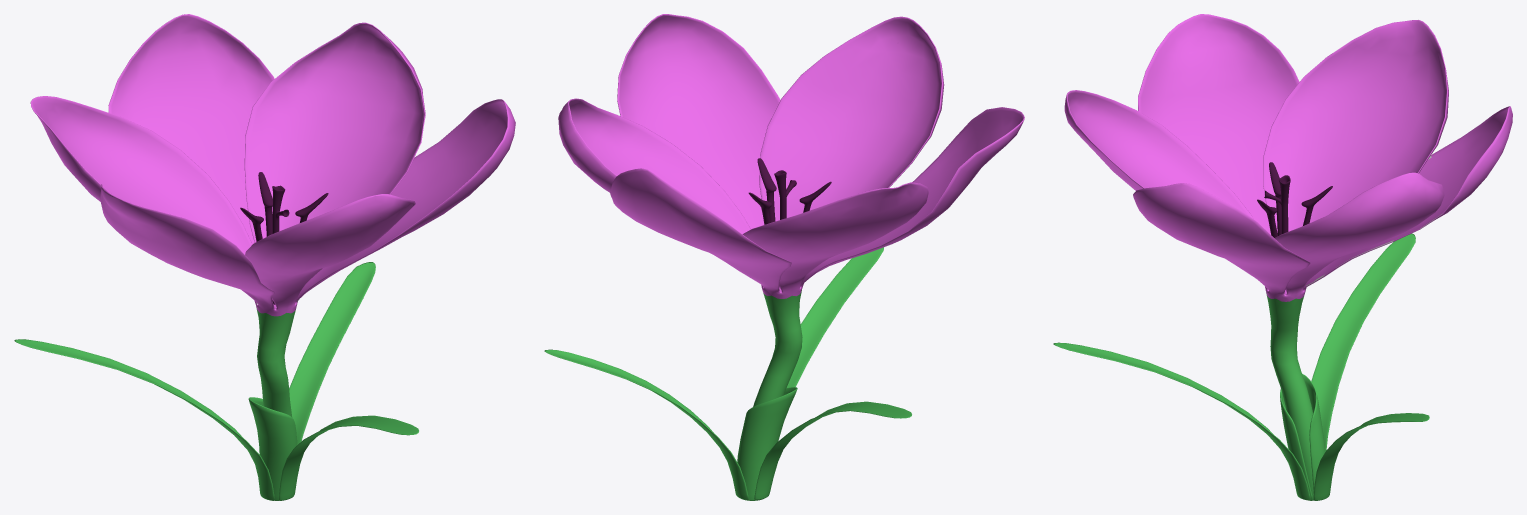
File: Flor.fbx
3 renders of one model, left to right at view 1: azimuth 30°, elevation 25°; view 2: azimuth 150°, elevation 25°; view 3: azimuth 270°, elevation 25°, orthographic. The views are drawn at different scales.
Visible parts, largest first — view 1: 12974_crocus_flower_v1_l3; view 2: 12974_crocus_flower_v1_l3; view 3: 12974_crocus_flower_v1_l3.
Boxes of the visible parts, x1,y1,x2,y2 form: 12974_crocus_flower_v1_l3: [14, 14, 515, 500]; 12974_crocus_flower_v1_l3: [544, 14, 1024, 500]; 12974_crocus_flower_v1_l3: [1053, 14, 1512, 500].
Size of the model in its own units: 404 by 399 by 426.
